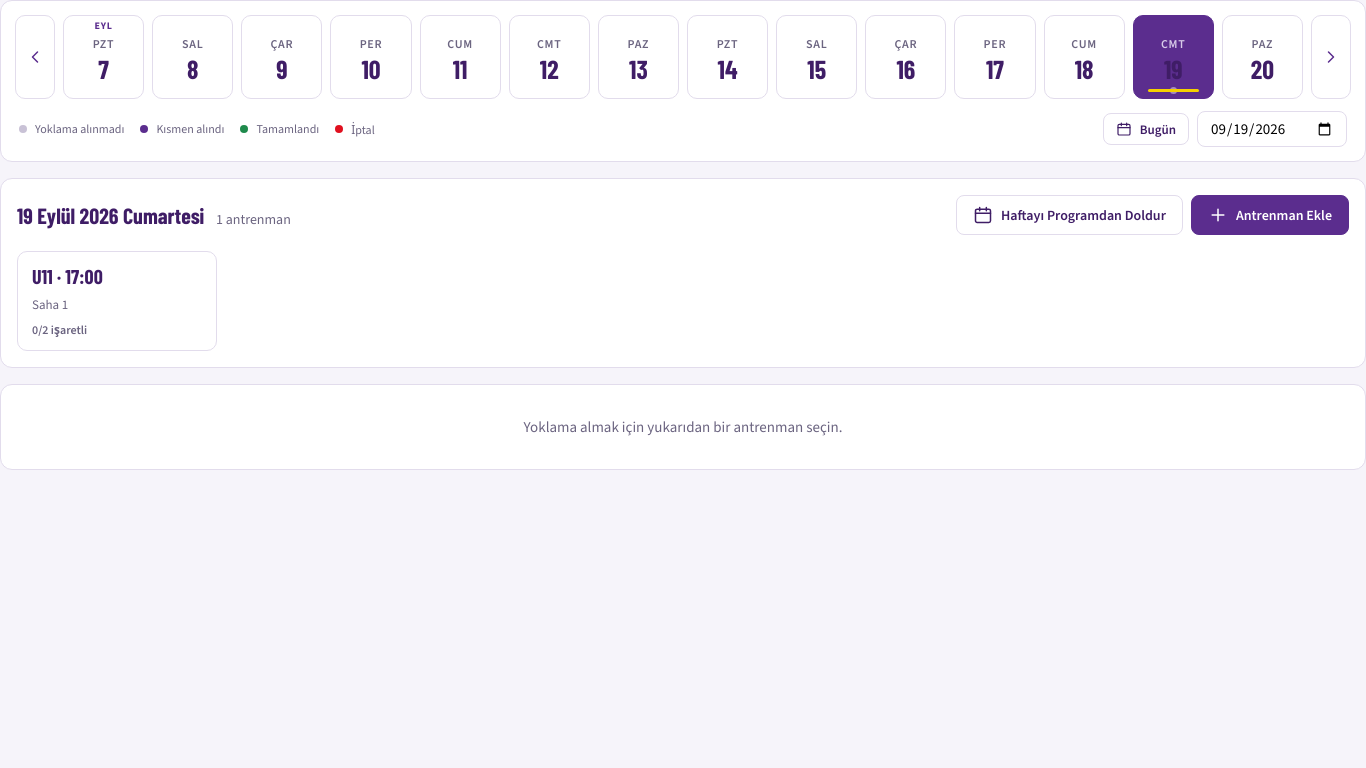
Yoklama ekranı (takvim şeridi) › 'Kalanları Geldi İşaretle' işaretlenmemiş HERKESİ kaydeder, ekran ve sayaç güncellenir (10.09.2026 hatası)
What coordinates should you click on to do the following:
click the button "U11 · 17:00 Saha 1 0/2 işaretli"
I would click on:
 (117, 301)
Its box is left=17, top=251, right=217, bottom=351.
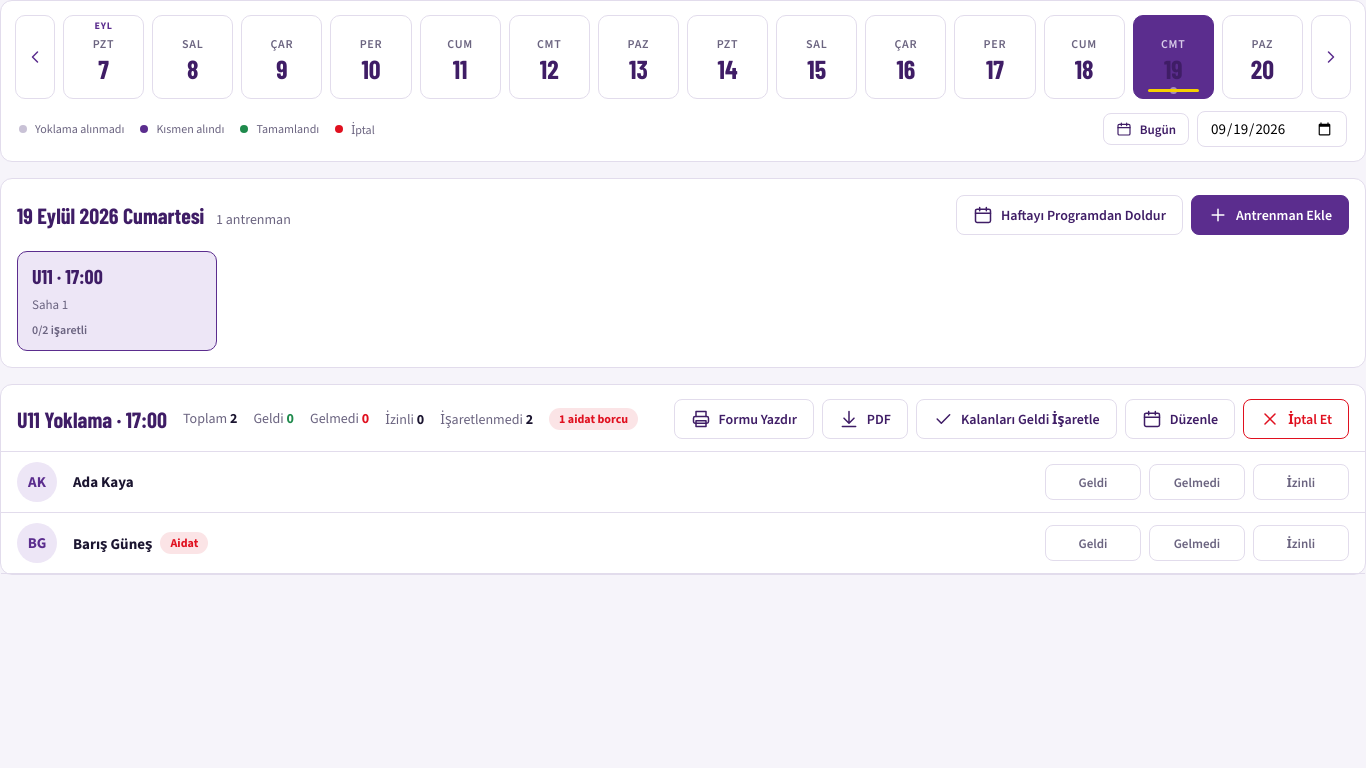
Check: the text "Ada Kaya" is shown, box left=73, top=472, right=134, bottom=492
What coordinates should you click on to do the following:
click the button "Gelmedi" in the row of "Barış Güneş"
I would click on:
 (1197, 543)
Its box is left=1149, top=525, right=1245, bottom=561.
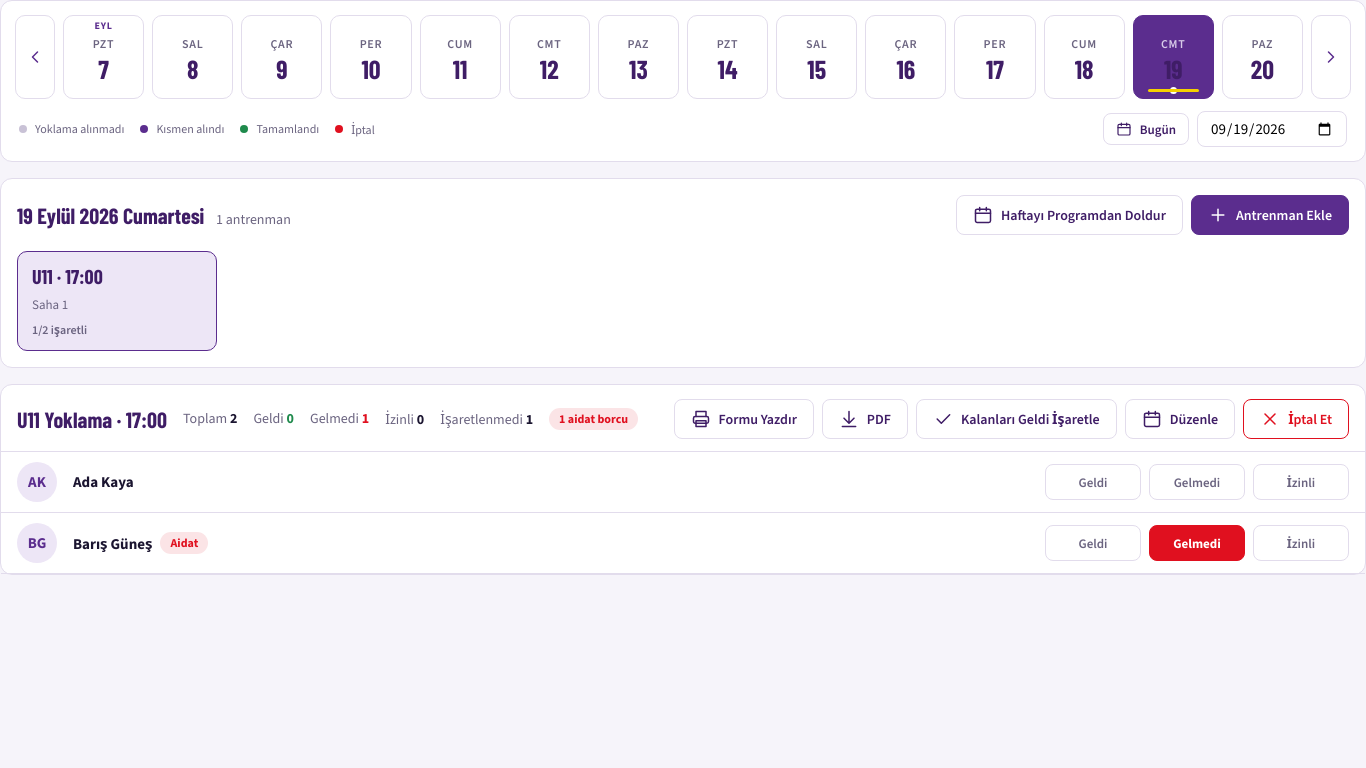
What coordinates should you click on to do the following:
click the button "Kalanları Geldi İşaretle"
I would click on:
 (1016, 419)
Its box is left=916, top=399, right=1117, bottom=439.
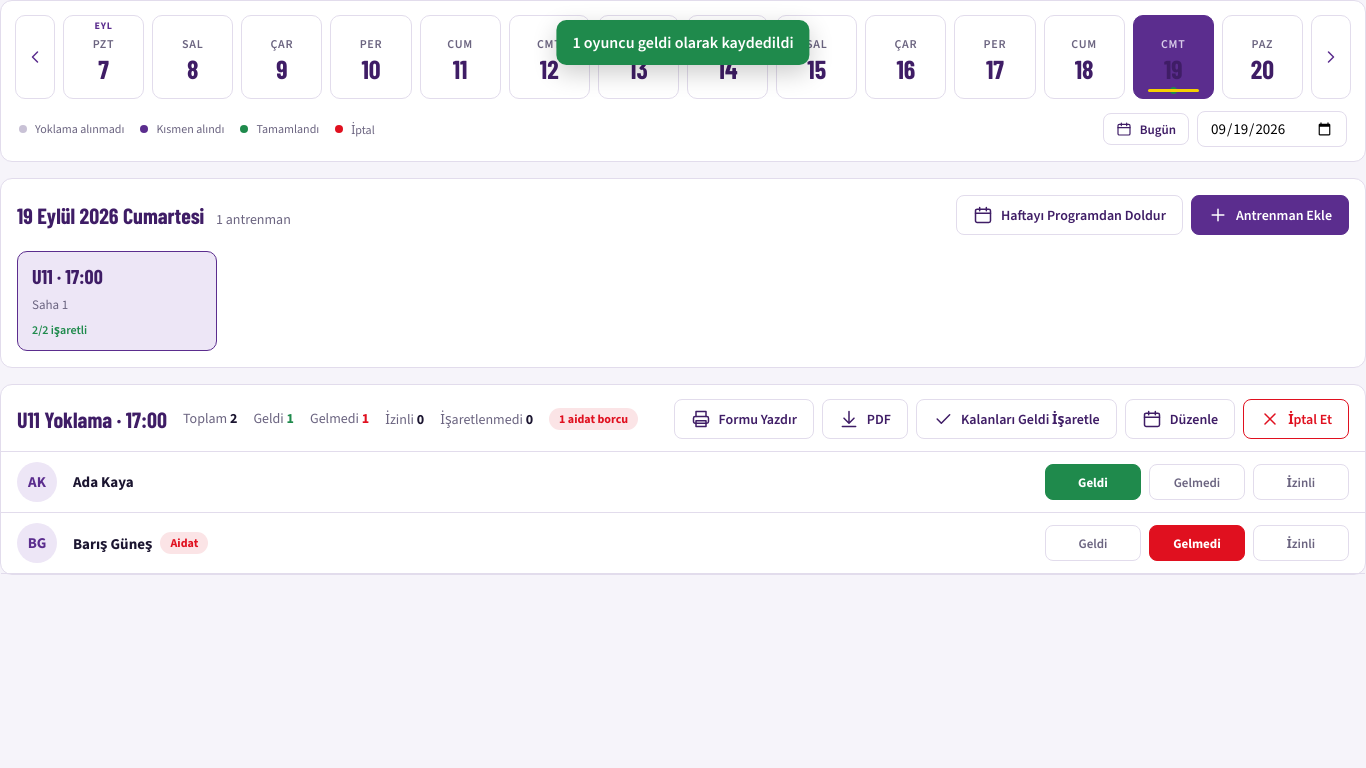
Check: the button "U11 · 17:00 Saha 1 2/2 işaretli" is shown, box left=17, top=251, right=217, bottom=351
Check: the text "1 oyuncu geldi olarak kaydedildi" is shown, box left=556, top=20, right=810, bottom=65
What coordinates should you click on to do the following:
click the button "Kalanları Geldi İşaretle"
I would click on:
 (1016, 419)
Its box is left=916, top=399, right=1117, bottom=439.
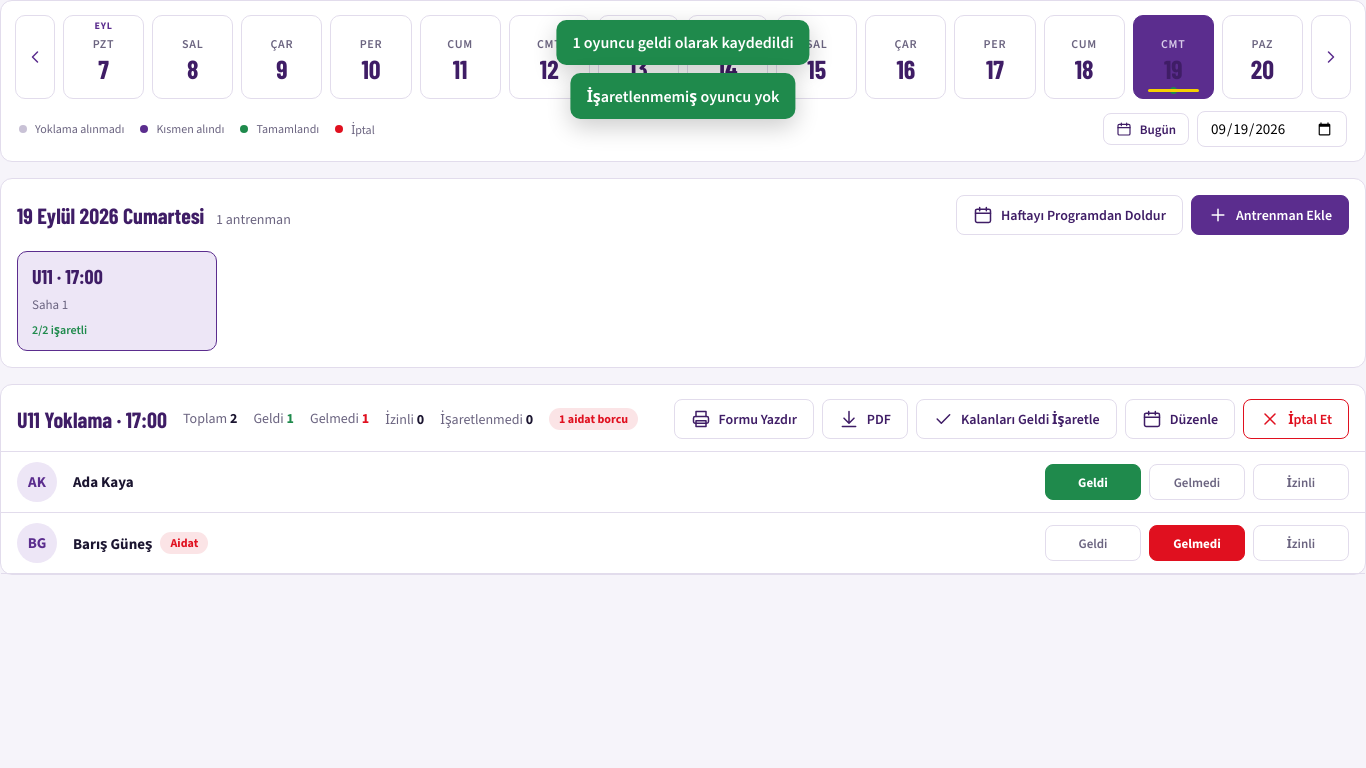
Check: the text "İşaretlenmemiş oyuncu yok" is shown, box left=571, top=73, right=795, bottom=119
